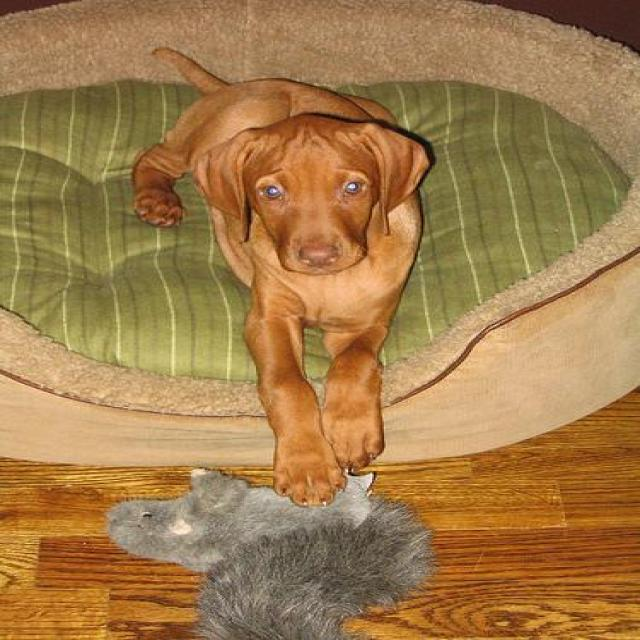vizsla: (136, 36, 437, 513)
